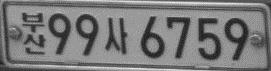5: (196, 17, 221, 61)
6: (139, 15, 165, 59)
7: (166, 15, 191, 59)
9: (223, 16, 248, 61), (47, 12, 72, 54), (74, 13, 99, 55)
부산_V: (21, 12, 47, 54)
사: (103, 17, 128, 55)
